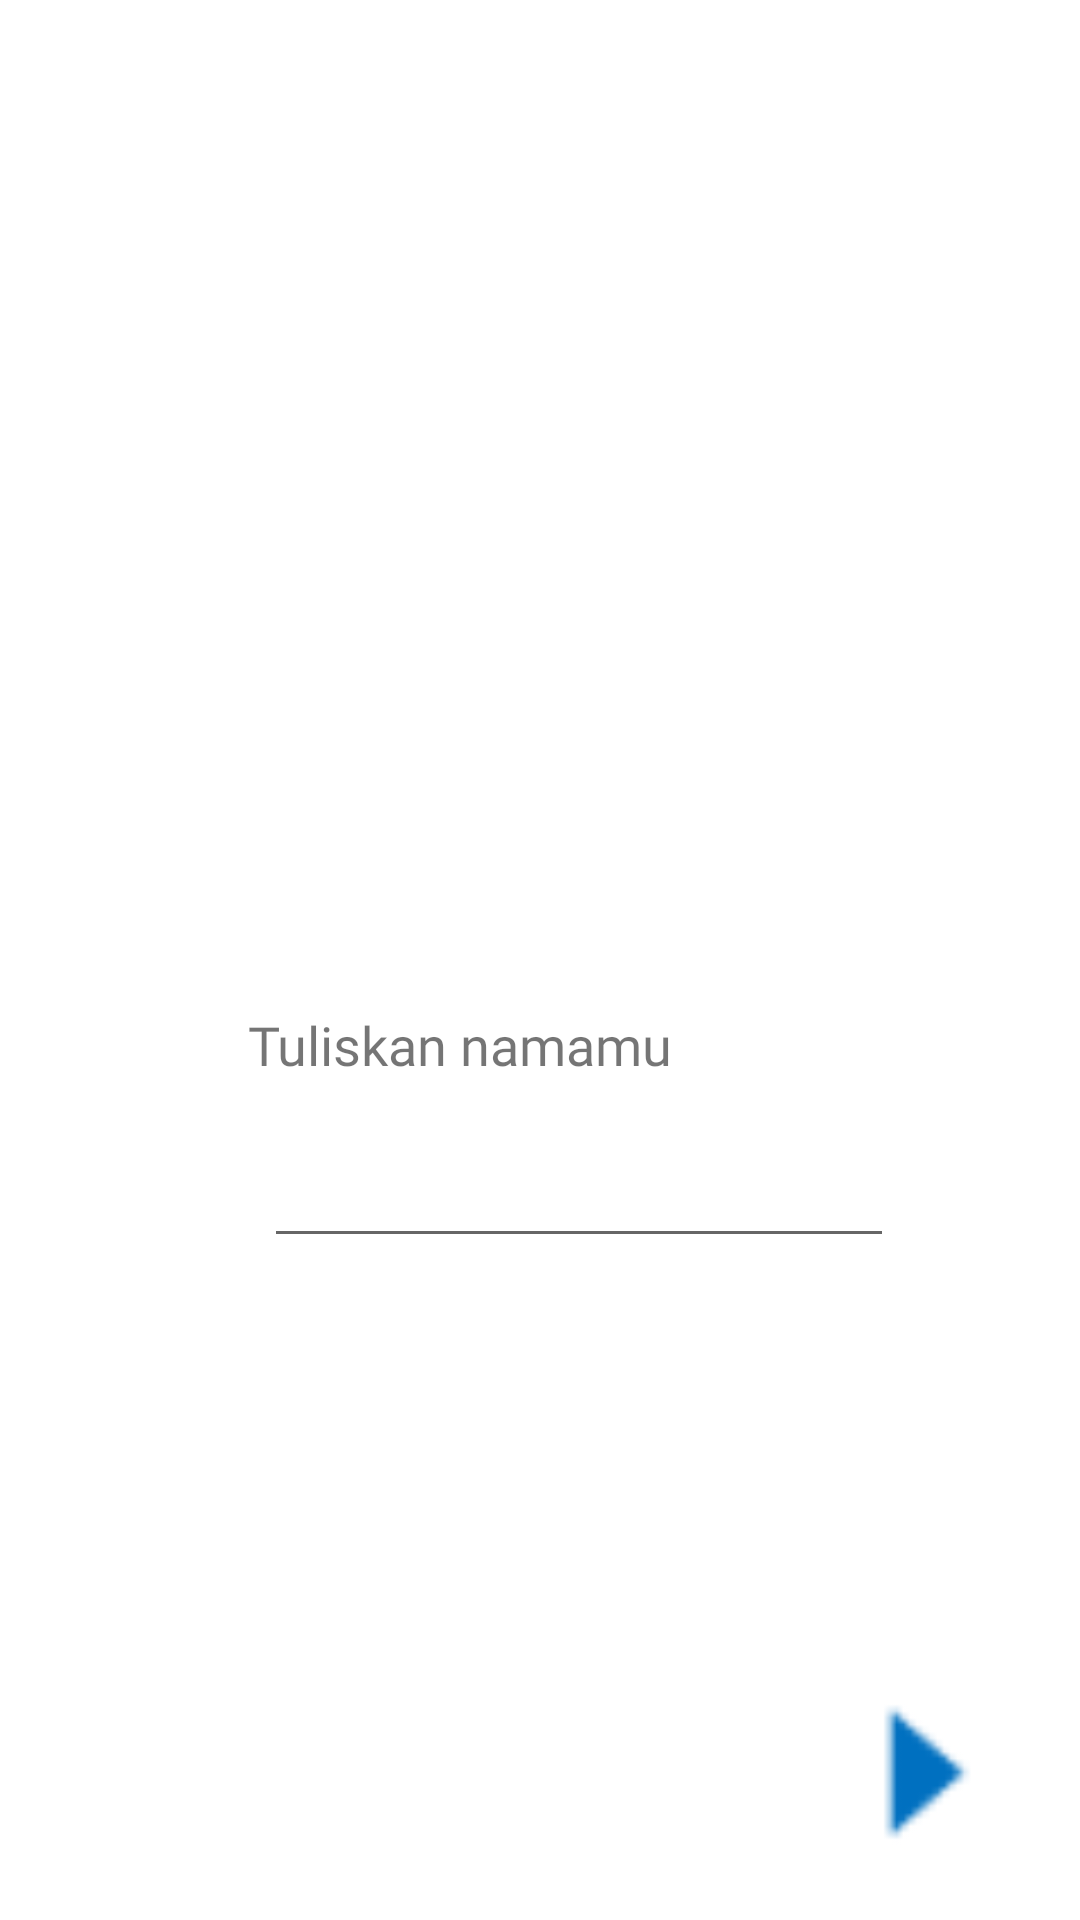

Locate icon controls on the screen. Image size 1080 × 1920, boxes as [x1,y1,x2,y2].
next: [885,1708,967,1837]
